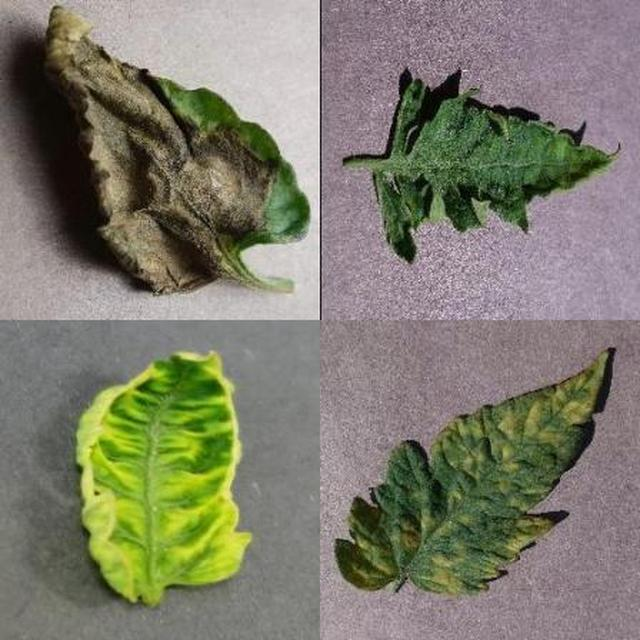Late Blight Leaf: (235, 211, 640, 640)
